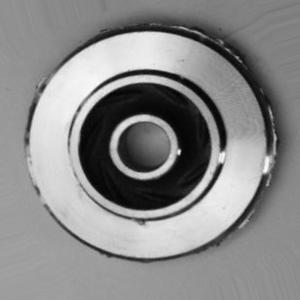casting_with_burr: (22, 19, 278, 267)
crack: (129, 208, 165, 232)
scratch: (20, 138, 57, 212), (210, 142, 230, 169)
